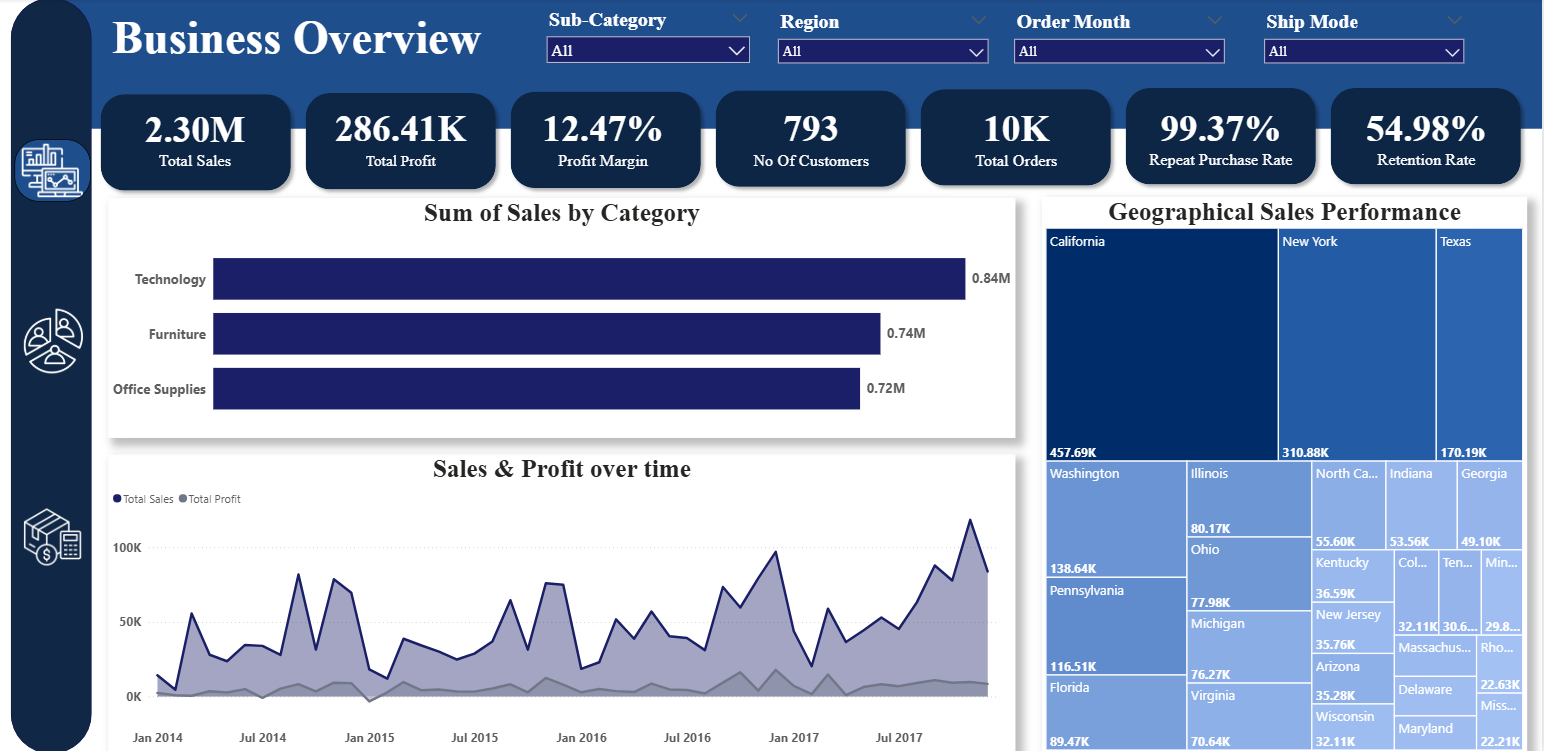

What the dashboard file says about the page in this screenshot:
{"tool":"powerbi","page":{"name":"Overview","canvas":[1881,920],"ordinal":0},"visuals":[{"type":"shape","box":[55.3,0,1826,159.1],"z":0},{"type":"shape","box":[17.3,0,98.6,919.9],"z":1000},{"type":"textbox","box":[134.9,12.1,499.7,88.2],"z":2000},{"type":"shape","box":[117.1,108,249.5,135.4],"z":3000},{"type":"shape","box":[366.6,106.5,249.5,135.4],"z":4000},{"type":"shape","box":[616.1,105,249.5,135.4],"z":5000},{"type":"shape","box":[865.5,103.4,249.5,135.4],"z":6000},{"type":"shape","box":[1364.5,100.4,249.5,135.4],"z":7000},{"type":"shape","box":[1115,101.9,249.5,135.4],"z":8000},{"type":"shape","box":[1614,100.4,249.5,135.4],"z":9000},{"type":"image","box":[21.3,171.9,92.8,76.1],"z":10000},{"type":"image","box":[30.4,581.1,74.5,149.1],"z":11000},{"type":"image","box":[27.4,311.8,82.1,211.4],"z":12000},{"type":"areaChart","title":"Sales & Profit over time","fields":{"Category":["Calendar.Date.Variation.Date Hierarchy.Year","Calendar.Date.Variation.Date Hierarchy.Month"],"Y":["Key Measure.Total Sales","Key Measure.Total Profit"]},"box":[135.4,555.2,1104.4,365.1],"z":13000},{"type":"treemap","title":"Geographical Sales Performance","fields":{"Group":["Sample - Superstore.State"],"Values":["Sum(Sample - Superstore.Sales)"]},"box":[1271.7,241.9,590.2,678.4],"z":14000},{"type":"barChart","fields":{"Y":["Sum(Sample - Superstore.Sales)"],"Category":["Sample - Superstore.Category"]},"box":[135.4,243.4,1104.4,292.1],"z":15000},{"type":"cardVisual","fields":{"Data":["Key Measure.Total Sales"]},"box":[143.5,117.9,196.5,109.4],"z":16000},{"type":"cardVisual","fields":{"Data":["Key Measure.Total Profit"]},"box":[379.3,119.6,225.6,104.2],"z":17000},{"type":"cardVisual","fields":{"Data":["Key Measure.Profit Margin"]},"box":[616.9,104.2,240.9,135],"z":18000},{"type":"cardVisual","fields":{"Data":["Key Measure.No Of Customers"]},"box":[886.8,105.9,208.5,131.6],"z":19000},{"type":"cardVisual","fields":{"Data":["Key Measure.Total Orders"]},"box":[1146.6,109.4,188,124.7],"z":20000},{"type":"cardVisual","fields":{"Data":["Key Measure.Repeat Purchase Rate"]},"box":[1361.9,95.7,256.3,150.4],"z":21000},{"type":"cardVisual","fields":{"Data":["Key Measure.Retention Rate"]},"box":[1630.2,95.7,218.7,152.1],"z":22000},{"type":"slicer","fields":{"Values":["Sample - Superstore.Region"]},"box":[939.8,10.7,276.4,92.7],"z":23000},{"type":"slicer","fields":{"Values":["Sample - Superstore.Order Month"]},"box":[1226.9,10.7,276.4,69.5],"z":24000},{"type":"slicer","fields":{"Values":["Sample - Superstore.Ship Mode"]},"box":[1531.8,10.7,263.9,69.5],"z":25000},{"type":"slicer","fields":{"Values":["Sample - Superstore.Sub-Category"]},"box":[658,7.1,267.5,76.7],"z":26000}]}

Visuals, with their boxes in screenshot pixels (x1, y1, x2, y2), scaled from the page's 1881x920 canvas onto the 1544x751 screenshot:
shape: bbox(45, 0, 1543, 130)
shape: bbox(14, 0, 95, 750)
textbox: bbox(111, 10, 521, 82)
shape: bbox(96, 88, 301, 199)
shape: bbox(301, 87, 506, 197)
shape: bbox(506, 86, 711, 196)
shape: bbox(710, 84, 915, 195)
shape: bbox(1120, 82, 1325, 192)
shape: bbox(915, 83, 1120, 194)
shape: bbox(1325, 82, 1530, 192)
image: bbox(17, 140, 94, 202)
image: bbox(25, 474, 86, 596)
image: bbox(22, 255, 90, 427)
"Sales & Profit over time" areaChart: bbox(111, 453, 1018, 750)
"Geographical Sales Performance" treemap: bbox(1044, 197, 1528, 750)
barChart - Sum(Sample - Superstore.Sales) x Sample - Superstore.Category: bbox(111, 199, 1018, 437)
cardVisual - Key Measure.Total Sales: bbox(118, 96, 279, 186)
cardVisual - Key Measure.Total Profit: bbox(311, 98, 497, 183)
cardVisual - Key Measure.Profit Margin: bbox(506, 85, 704, 195)
cardVisual - Key Measure.No Of Customers: bbox(728, 86, 899, 194)
cardVisual - Key Measure.Total Orders: bbox(941, 89, 1095, 191)
cardVisual - Key Measure.Repeat Purchase Rate: bbox(1118, 78, 1328, 201)
cardVisual - Key Measure.Retention Rate: bbox(1338, 78, 1518, 202)
slicer - Sample - Superstore.Region: bbox(771, 9, 998, 84)
slicer - Sample - Superstore.Order Month: bbox(1007, 9, 1234, 65)
slicer - Sample - Superstore.Ship Mode: bbox(1257, 9, 1474, 65)
slicer - Sample - Superstore.Sub-Category: bbox(540, 6, 760, 68)
